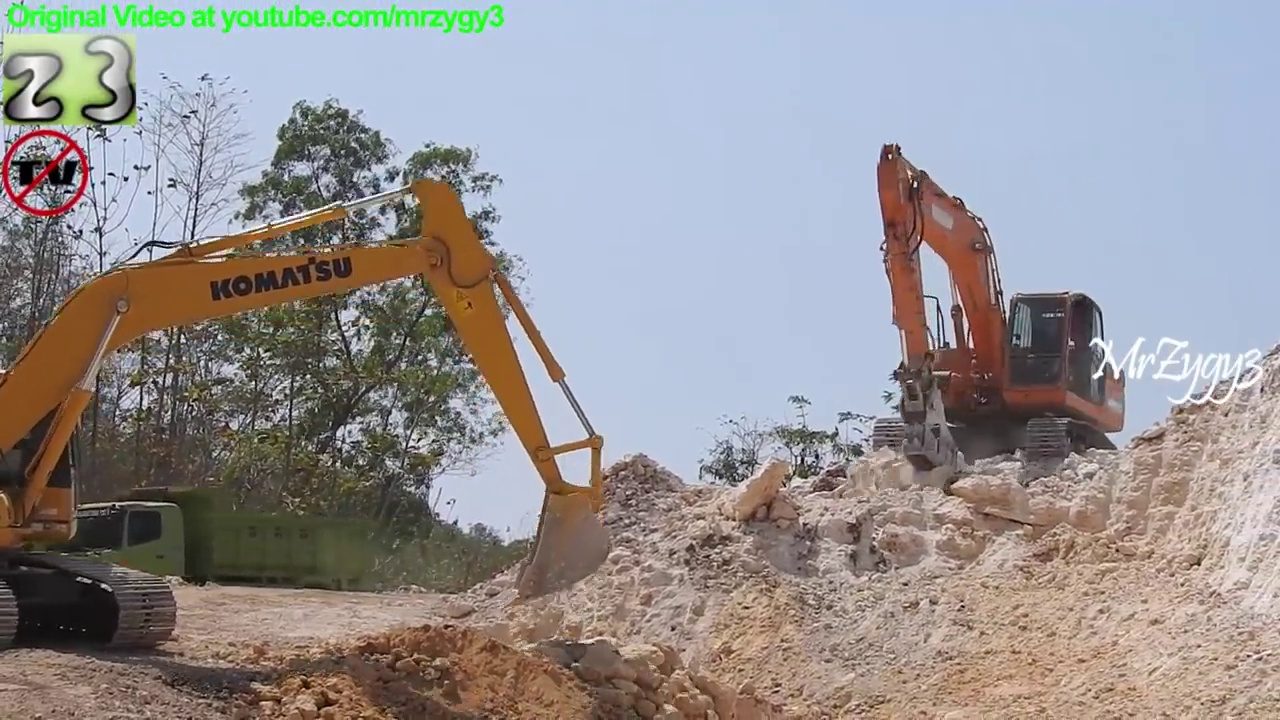excavator: (1, 167, 622, 661), (860, 134, 1137, 499)
truck: (29, 478, 381, 627)
